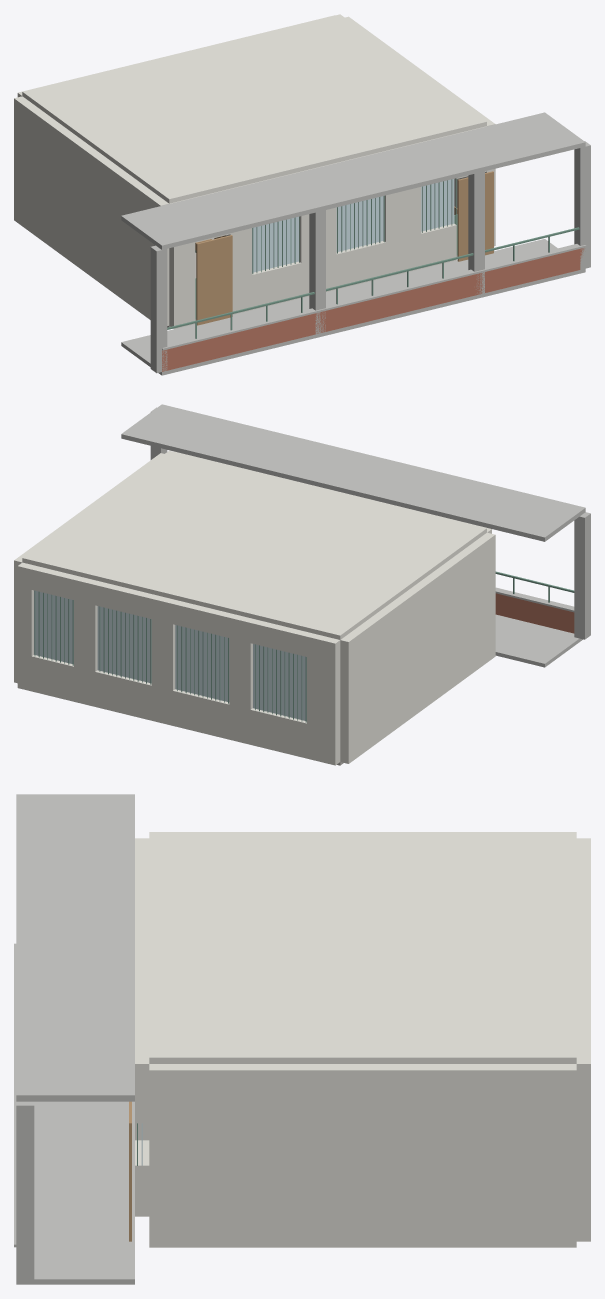
The model's file is classroom_whitebox.glb.
3 renders of one model, top to bottom at view 1: azimuth 30°, elevation 25°; view 2: azimuth 150°, elevation 25°; view 3: azimuth 270°, elevation 25°, orthographic. The views are drawn at different scales.
Parts seen in each view (by area): view 1: Ceiling, Corridor_Ceiling, Wall_Front, Corridor_Railing_wall, Corridor_Floor, Wall_Corridor_pier_6.0, Door_0.6, Corridor_Railing_cap, Wall_Corridor_pier_0.0, Corridor_column_0, Window_Wall_Corridor_4.6_glass, Window_Wall_Corridor_2.2_glass (+12 smaller); view 2: Ceiling, Wall_Front, Corridor_Ceiling, Wall_Outer_pier_0.0, Window_Wall_Outer_3.0_glass, Window_Wall_Outer_5.2_glass, Window_Wall_Outer_0.8_glass, Wall_Outer_pier_4.6, Corridor_Floor, Wall_Outer_pier_2.4, Wall_Outer_pier_6.8, Window_Wall_Outer_7.4_glass (+13 smaller); view 3: Ceiling, Wall_Back, Corridor_Ceiling, Corridor_Floor, Corridor_column_3, Wall_Outer_pier_end, Wall_Corridor_doorhead_8.0, Wall_Corridor_sill_7.0, Corridor_Railing_cap.
Boxes of the visible parts, left/top/right/bottom form: Ceiling: left=22, top=14, right=486, bottom=203; Corridor_Ceiling: left=121, top=112, right=585, bottom=249; Wall_Front: left=14, top=96, right=169, bottom=325; Corridor_Railing_wall: left=162, top=248, right=584, bottom=371; Corridor_Floor: left=121, top=239, right=585, bottom=375; Wall_Corridor_pier_6.0: left=381, top=143, right=421, bottom=277; Door_0.6: left=196, top=235, right=232, bottom=325; Corridor_Railing_cap: left=162, top=244, right=586, bottom=350; Wall_Corridor_pier_0.0: left=169, top=198, right=195, bottom=328; Corridor_column_0: left=150, top=245, right=167, bottom=373; Window_Wall_Corridor_4.6_glass: left=336, top=196, right=383, bottom=251; Window_Wall_Corridor_2.2_glass: left=252, top=216, right=298, bottom=272; Ceiling: left=22, top=450, right=486, bottom=639; Wall_Front: left=340, top=532, right=495, bottom=763; Corridor_Ceiling: left=121, top=404, right=585, bottom=541; Wall_Outer_pier_0.0: left=307, top=633, right=340, bottom=765; Window_Wall_Outer_3.0_glass: left=175, top=625, right=229, bottom=701; Window_Wall_Outer_5.2_glass: left=97, top=606, right=151, bottom=682; Window_Wall_Outer_0.8_glass: left=253, top=644, right=306, bottom=720; Wall_Outer_pier_4.6: left=151, top=595, right=177, bottom=725; Corridor_Floor: left=495, top=614, right=582, bottom=667; Wall_Outer_pier_2.4: left=229, top=614, right=254, bottom=744; Wall_Outer_pier_6.8: left=74, top=576, right=99, bottom=706; Window_Wall_Outer_7.4_glass: left=34, top=590, right=73, bottom=663; Ceiling: left=149, top=832, right=576, bottom=1063; Wall_Back: left=149, top=1064, right=576, bottom=1247; Corridor_Ceiling: left=16, top=794, right=134, bottom=1101; Corridor_Floor: left=16, top=1101, right=134, bottom=1284; Corridor_column_3: left=16, top=1101, right=34, bottom=1282; Wall_Outer_pier_end: left=576, top=1054, right=590, bottom=1241; Wall_Corridor_doorhead_8.0: left=135, top=1039, right=149, bottom=1123; Wall_Corridor_sill_7.0: left=135, top=1140, right=149, bottom=1216; Corridor_Railing_cap: left=14, top=943, right=16, bottom=1247.
Size of the model in its own units: 12.3 by 3.52 by 9.72.
